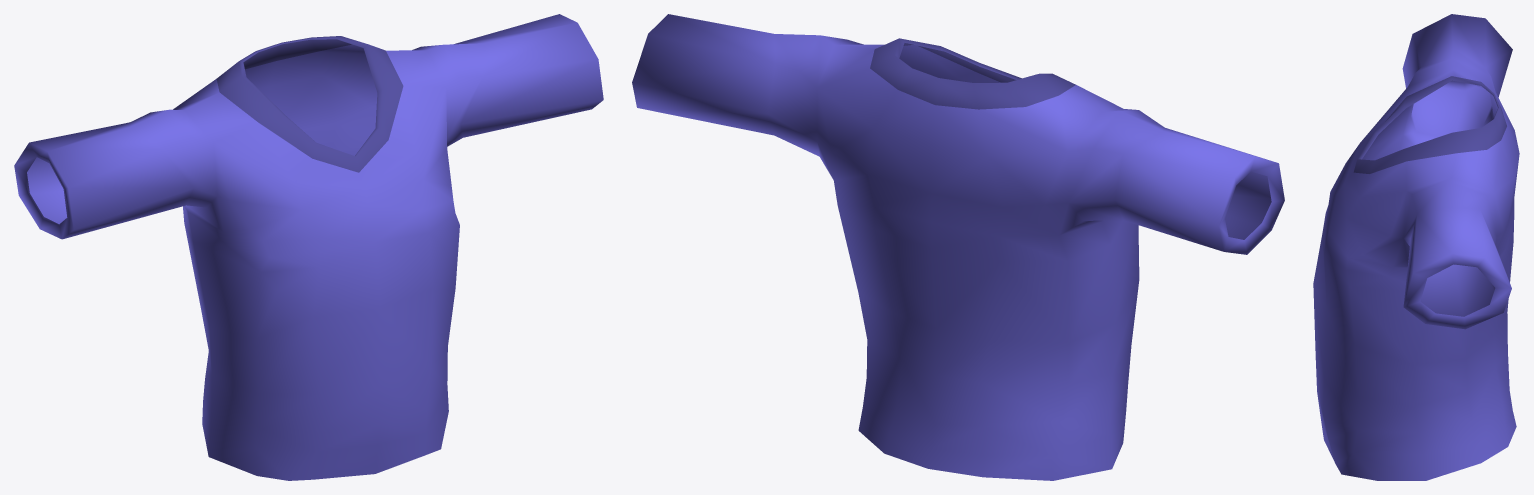
The model's file is Shirt_Griffin03.fbx.
3 renders of one model, left to right at view 1: azimuth 30°, elevation 25°; view 2: azimuth 150°, elevation 25°; view 3: azimuth 270°, elevation 25°, orthographic. The views are drawn at different scales.
Parts seen in each view (by area): view 1: Shirt_Griffin03; view 2: Shirt_Griffin03; view 3: Shirt_Griffin03.
Boxes of the visible parts, x1,y1,x2,y2 form: Shirt_Griffin03: (14,14,603,480); Shirt_Griffin03: (632,14,1284,480); Shirt_Griffin03: (1313,14,1519,480).
Size of the model in its own units: 88.63 by 58.15 by 32.33.
